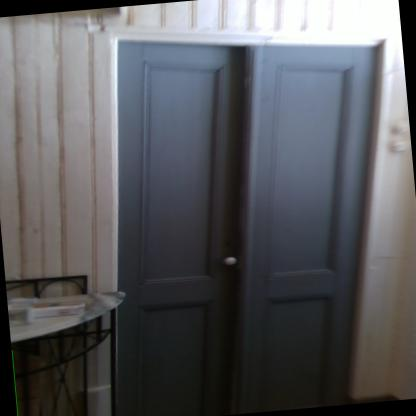closed: (83, 3, 415, 415)
